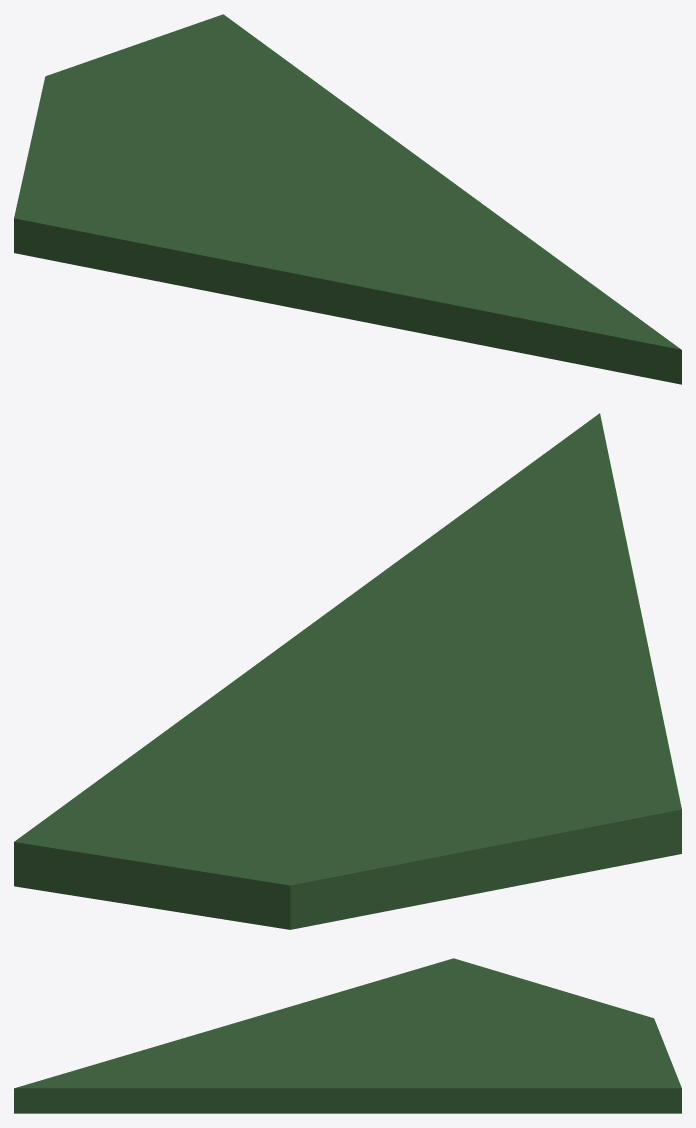
File: x_proval_00_99_1_rmstrd.fbx
3 views of the same model, one above another, from view 1: azimuth 30°, elevation 25°; view 2: azimuth 150°, elevation 25°; view 3: azimuth 270°, elevation 25° (orthographic). The views are drawn at different scales.
Visible parts, largest first — view 1: x_proval_00_99_1_rmstrd1; view 2: x_proval_00_99_1_rmstrd1; view 3: x_proval_00_99_1_rmstrd1.
Part boxes in pixels (bbox=[...]): x_proval_00_99_1_rmstrd1: bbox=[14, 14, 681, 384]; x_proval_00_99_1_rmstrd1: bbox=[14, 413, 681, 929]; x_proval_00_99_1_rmstrd1: bbox=[14, 958, 681, 1113].
Size of the model in its own units: 2.2 by 0.2 by 4.78.
